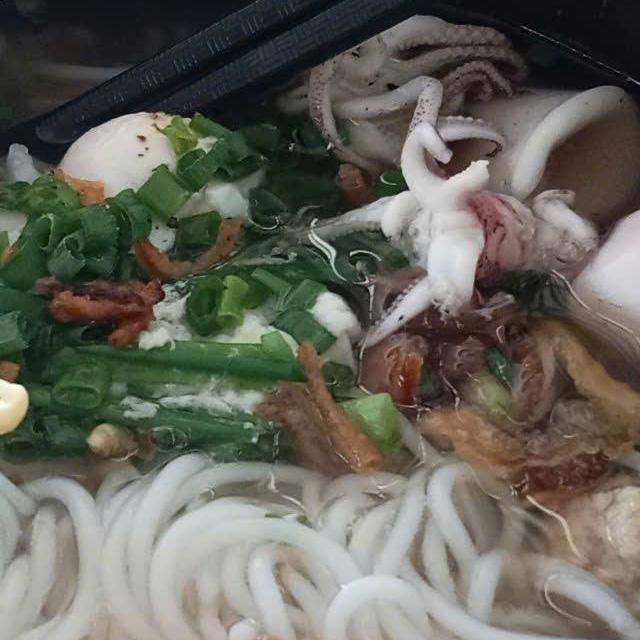bun: (0, 189, 640, 640)
muc: (286, 116, 608, 356), (256, 1, 537, 176), (442, 72, 640, 232), (549, 172, 640, 412)
trung: (0, 103, 371, 424)
